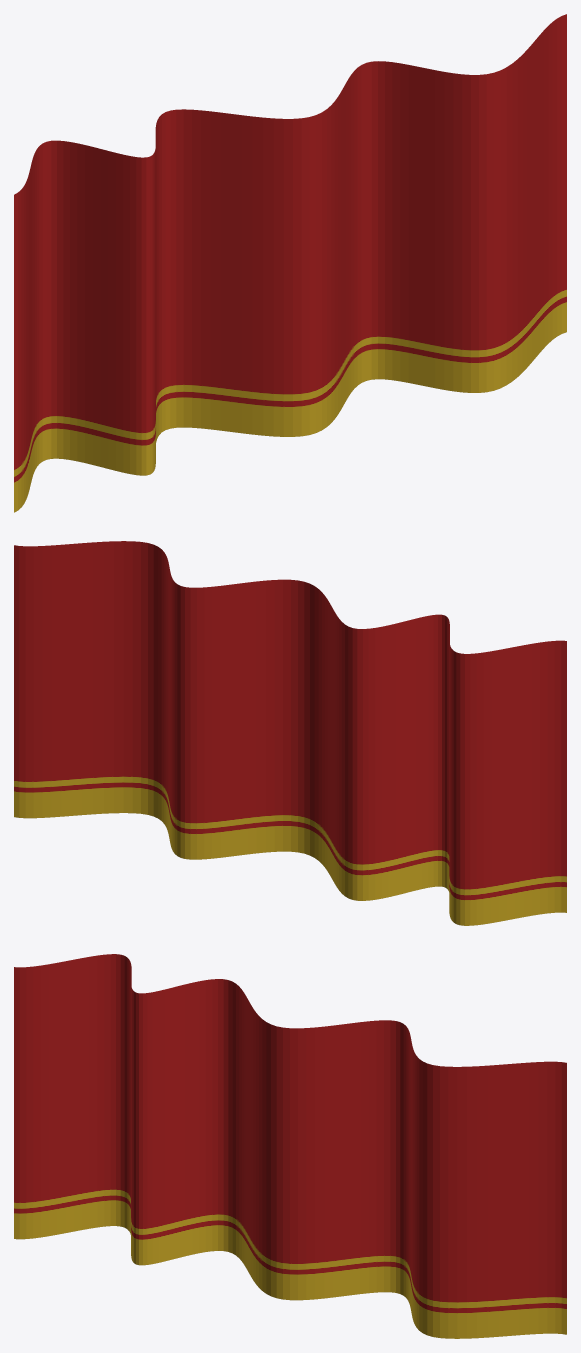
The model's file is curtainMesh.obj.
3 views of the same model, one above another, from view 1: azimuth 30°, elevation 25°; view 2: azimuth 150°, elevation 25°; view 3: azimuth 330°, elevation 25° (orthographic). The views are drawn at different scales.
Parts seen in each view (by area): view 1: NurbsCurve; view 2: NurbsCurve; view 3: NurbsCurve.
Boxes of the visible parts, x1,y1,x2,y2 form: NurbsCurve: [14, 14, 566, 512]; NurbsCurve: [14, 541, 566, 925]; NurbsCurve: [14, 954, 566, 1338].
Size of the model in its own units: 5.53 by 2.8 by 0.7535.
Materials: 1 (1 with a texture image).
